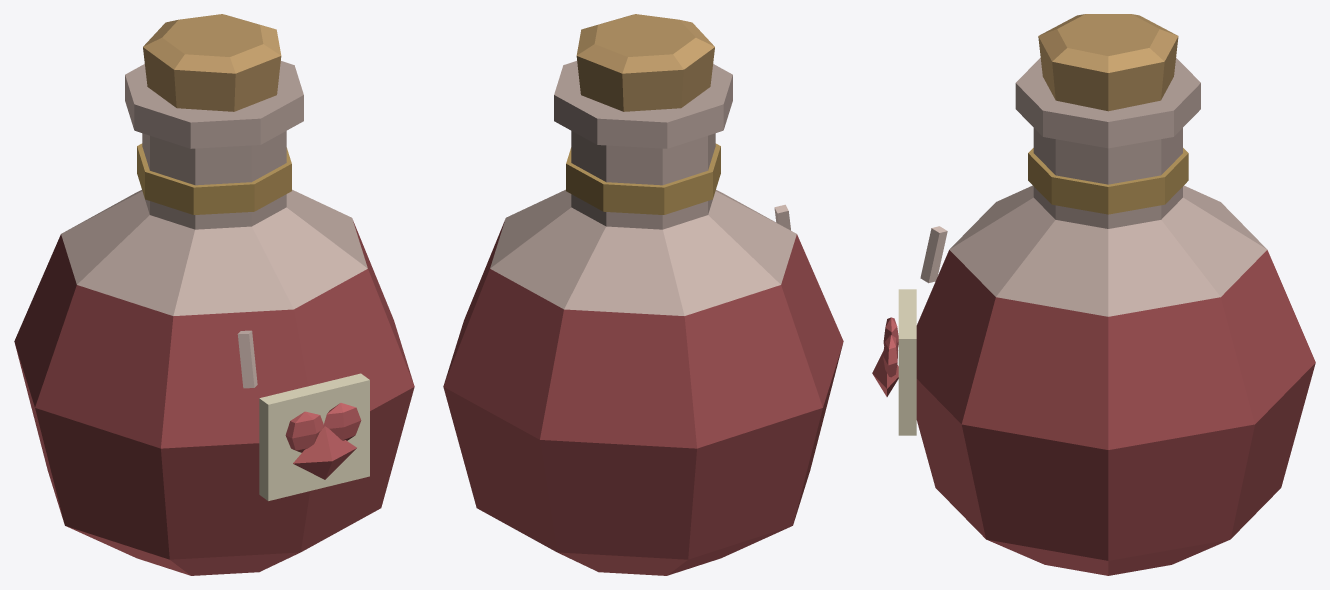
Rendered from item_potion_health.glb.
3 views of the same model, side by side, from view 1: azimuth 30°, elevation 25°; view 2: azimuth 150°, elevation 25°; view 3: azimuth 270°, elevation 25° (orthographic).
Visible parts, largest first — view 1: item_potion_health; view 2: item_potion_health; view 3: item_potion_health.
Boxes of the visible parts, x1,y1,x2,y2 form: item_potion_health: [14, 14, 414, 575]; item_potion_health: [443, 14, 843, 575]; item_potion_health: [872, 14, 1315, 575].
Size of the model in its own units: 0.3 by 0.402 by 0.3208.
